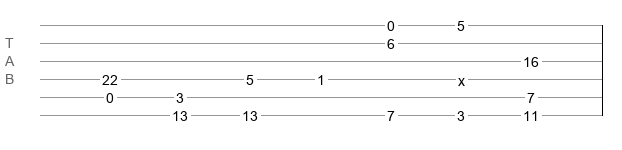0: (106, 90, 114, 100), (387, 18, 395, 28)
1: (317, 72, 325, 82)
11: (523, 108, 539, 118)
13: (172, 108, 188, 118), (242, 108, 258, 118)
16: (523, 54, 539, 64)
22: (102, 72, 118, 82)
3: (176, 90, 184, 100), (457, 108, 465, 118)
5: (246, 72, 254, 82), (457, 18, 465, 28)
6: (387, 36, 395, 46)
7: (387, 108, 395, 118), (527, 90, 535, 100)
x: (458, 73, 465, 81)
